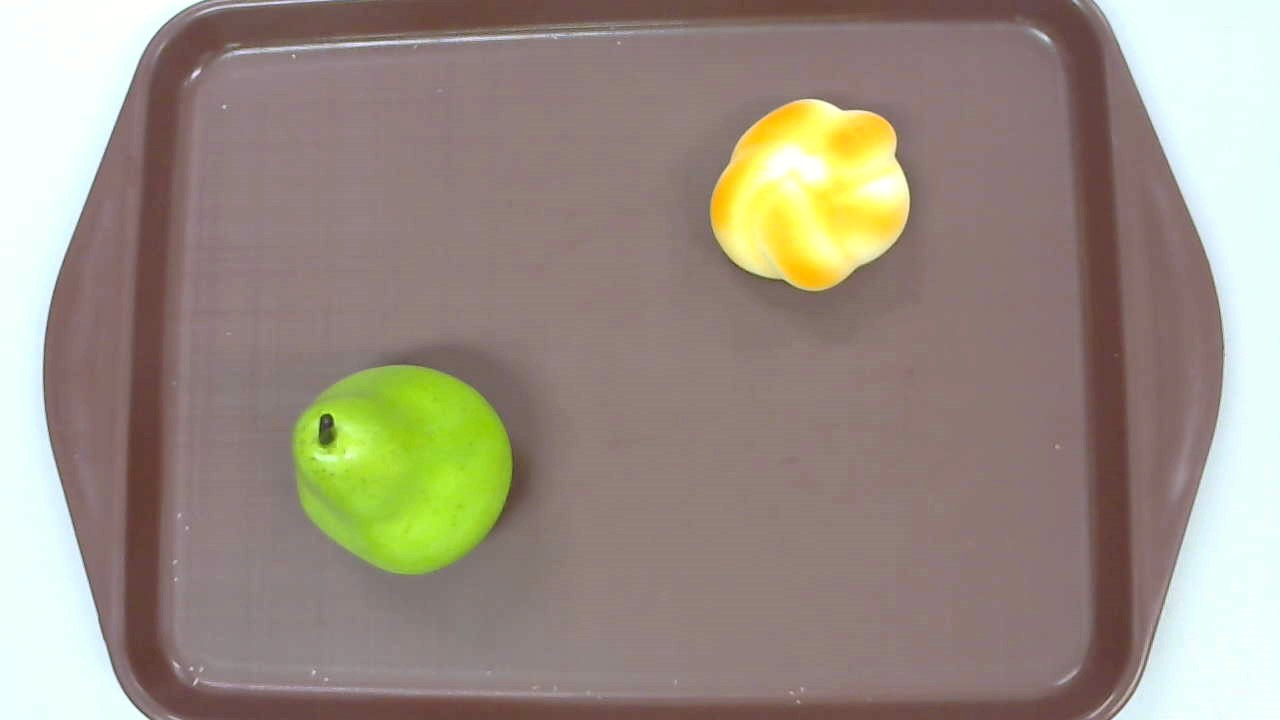green pear: (291, 364, 513, 575)
twist bread: (710, 97, 909, 292)
